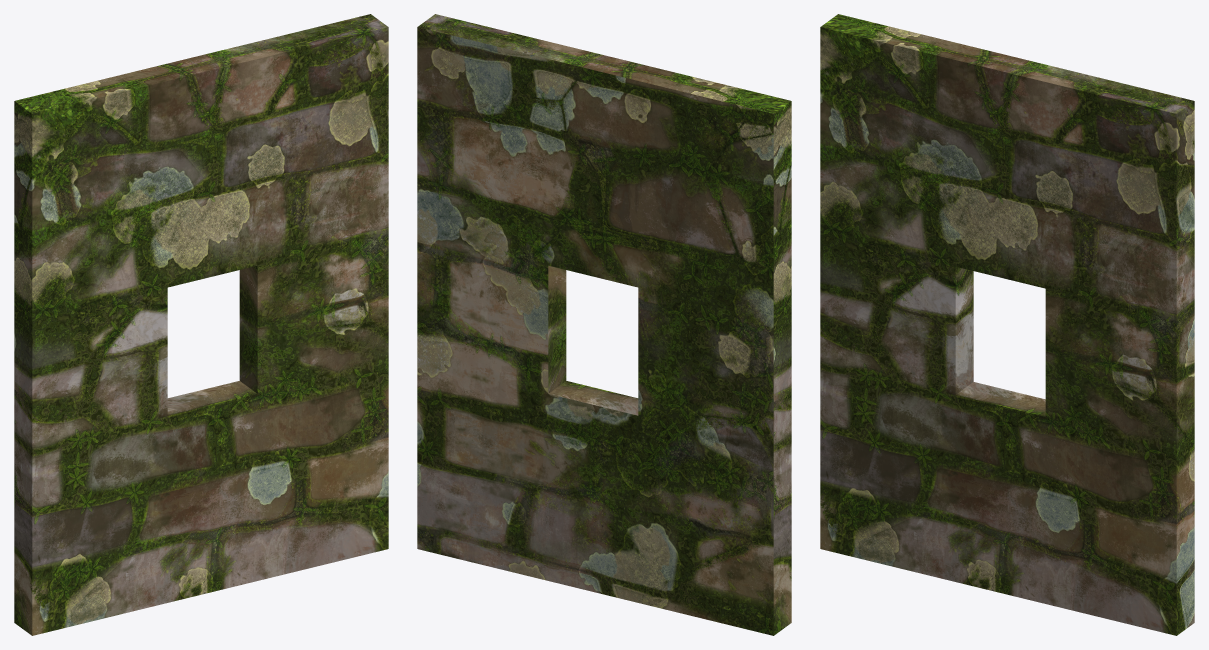
Rendered from SM_WallWindowSmall.fbx.
3 renders of one model, left to right at view 1: azimuth 30°, elevation 25°; view 2: azimuth 150°, elevation 25°; view 3: azimuth 330°, elevation 25°, orthographic.
Visible parts, largest first — view 1: SM_WallWindowSmall_LOD0; view 2: SM_WallWindowSmall_LOD0; view 3: SM_WallWindowSmall_LOD0.
Part boxes in pixels (left/top/right/bottom): SM_WallWindowSmall_LOD0: left=14, top=14, right=388, bottom=635; SM_WallWindowSmall_LOD0: left=417, top=14, right=791, bottom=635; SM_WallWindowSmall_LOD0: left=820, top=14, right=1194, bottom=635.
Size of the model in its own units: 318 by 27.61 by 445.
Materials: 1 (1 with a texture image).
